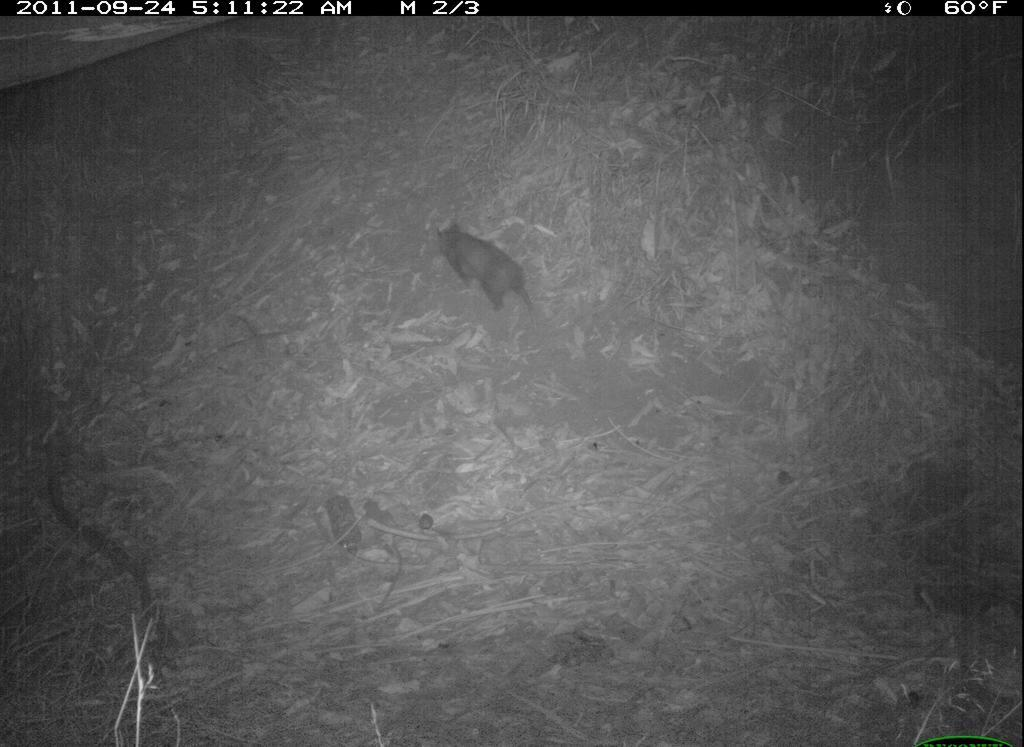opossum: (419, 203, 577, 327)
